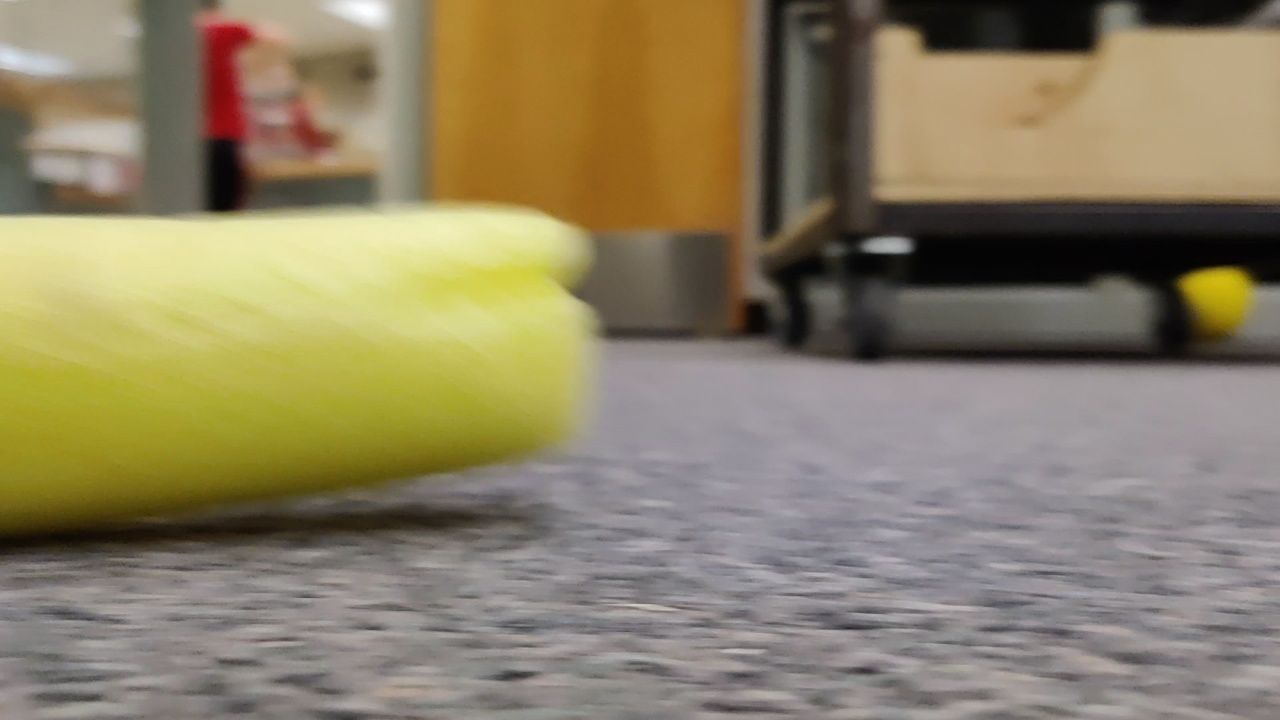Ball: (1178, 264, 1257, 350)
